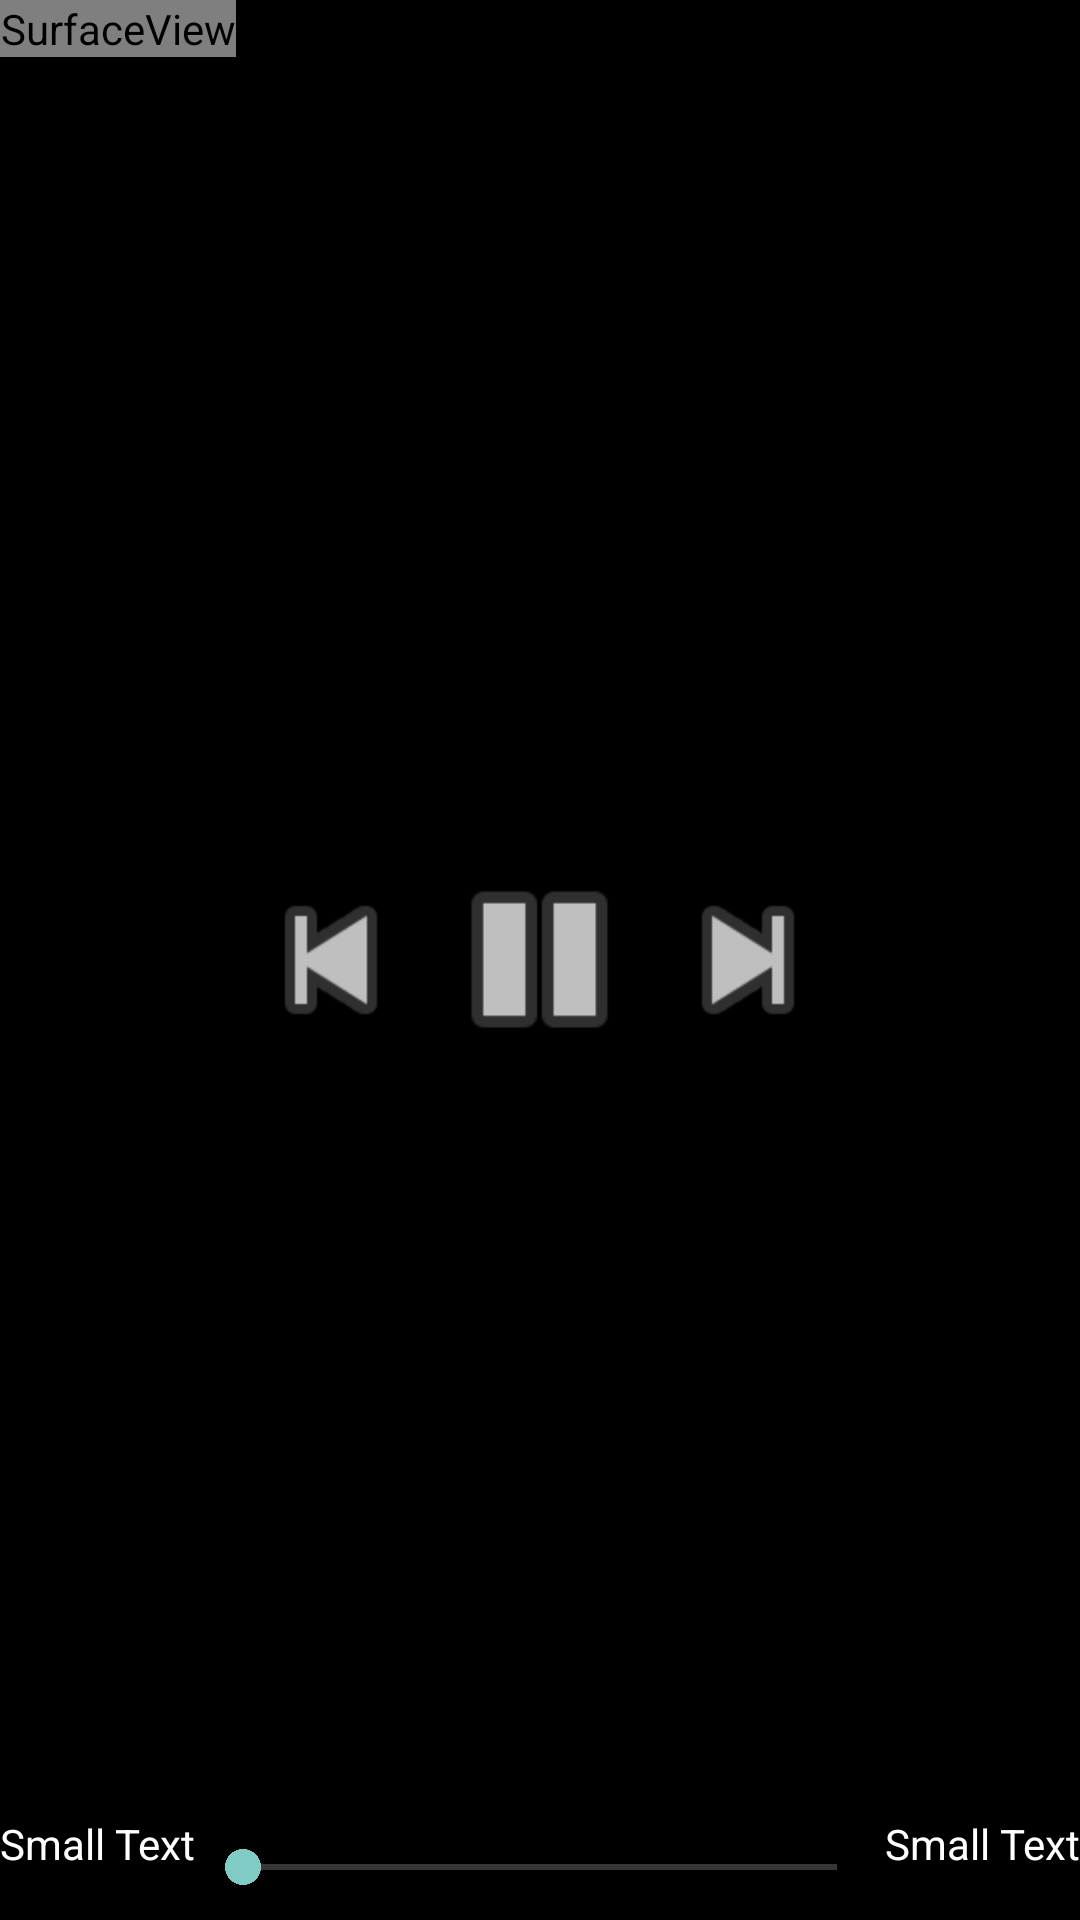

Named icons in this screenshot (1080w x 1920h) and their bounding boxes, (x1, y1, x2, y2):
next: (702, 906, 794, 1014)
pause: (472, 892, 607, 1027)
previous: (285, 906, 377, 1014)
